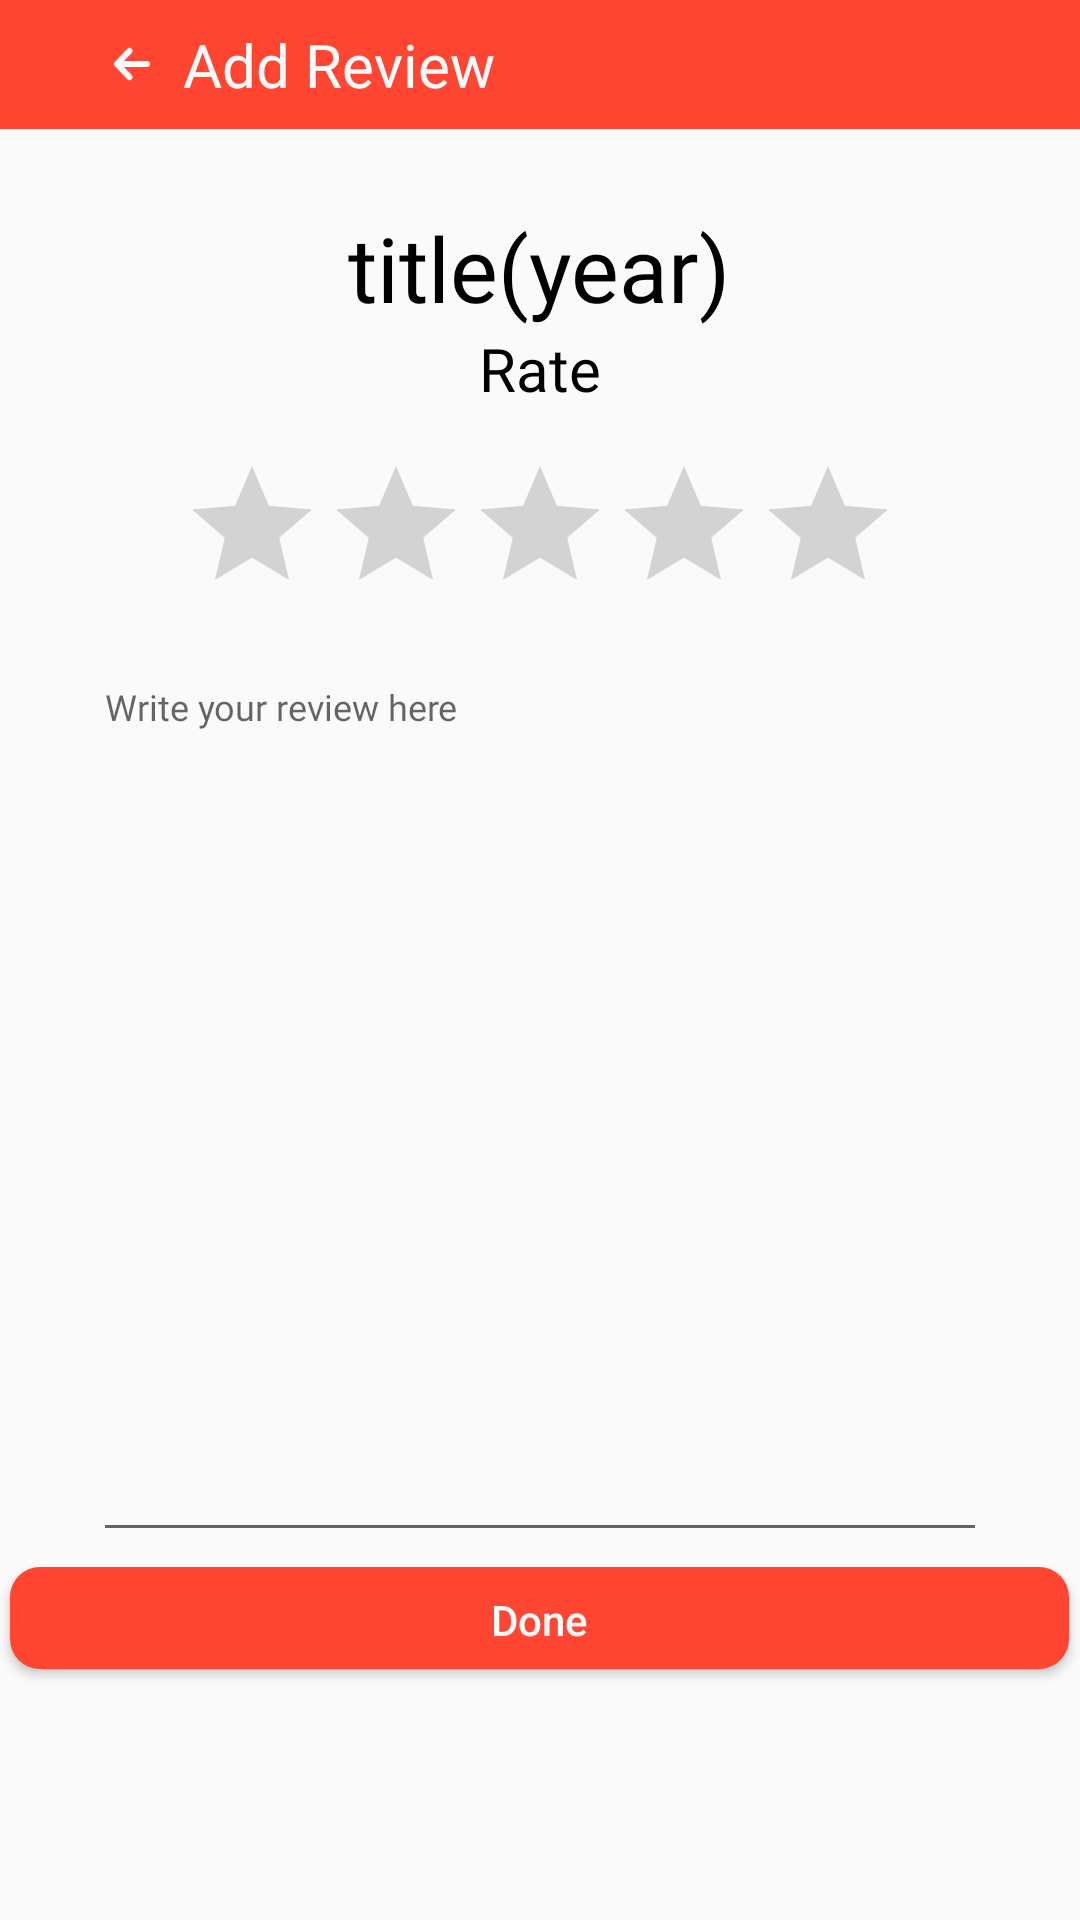

Locate icon controls on the screen. Image size 1080w x 1920h, boxes as bbox=(x1, y1, x2, y2).
arrowleft: bbox=(114, 47, 150, 81)
